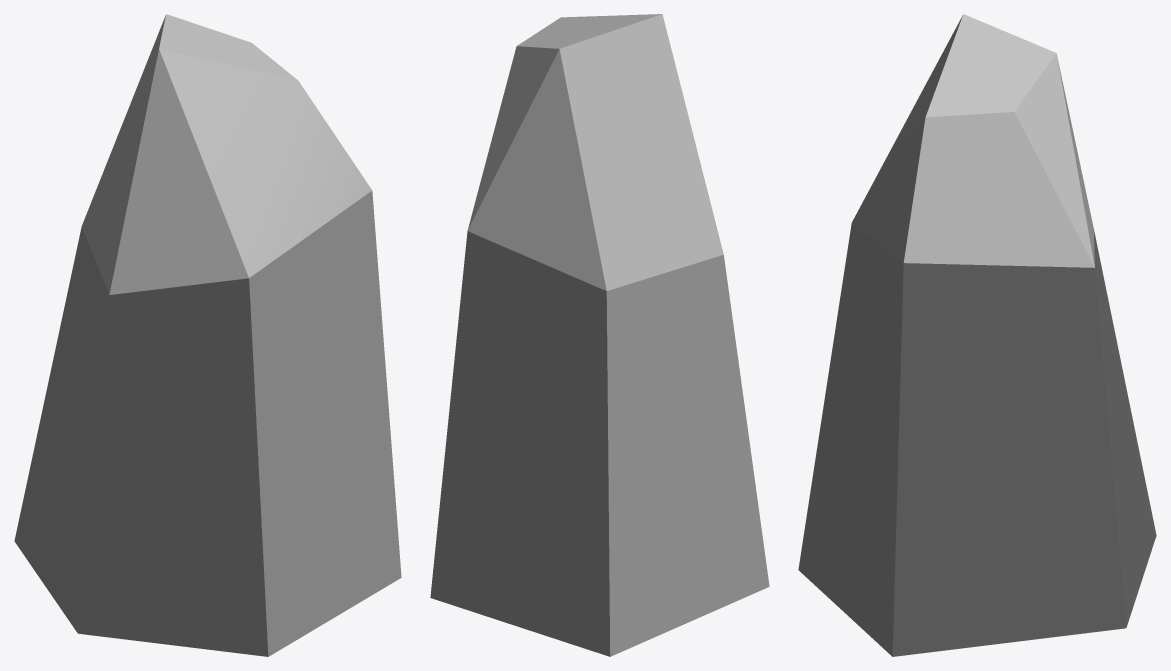
Rendered from RockB.fbx.
3 views of the same model, side by side, from view 1: azimuth 30°, elevation 25°; view 2: azimuth 150°, elevation 25°; view 3: azimuth 270°, elevation 25° (orthographic). The views are drawn at different scales.
Visible parts, largest first — view 1: RockB; view 2: RockB; view 3: RockB.
Part boxes in pixels (box(x1,y1,x2,y2)): RockB: box(14, 14, 401, 656); RockB: box(430, 14, 769, 656); RockB: box(798, 14, 1156, 656).
Bounding box in the file's own units: 47.32 × 83.33 × 49.74.
